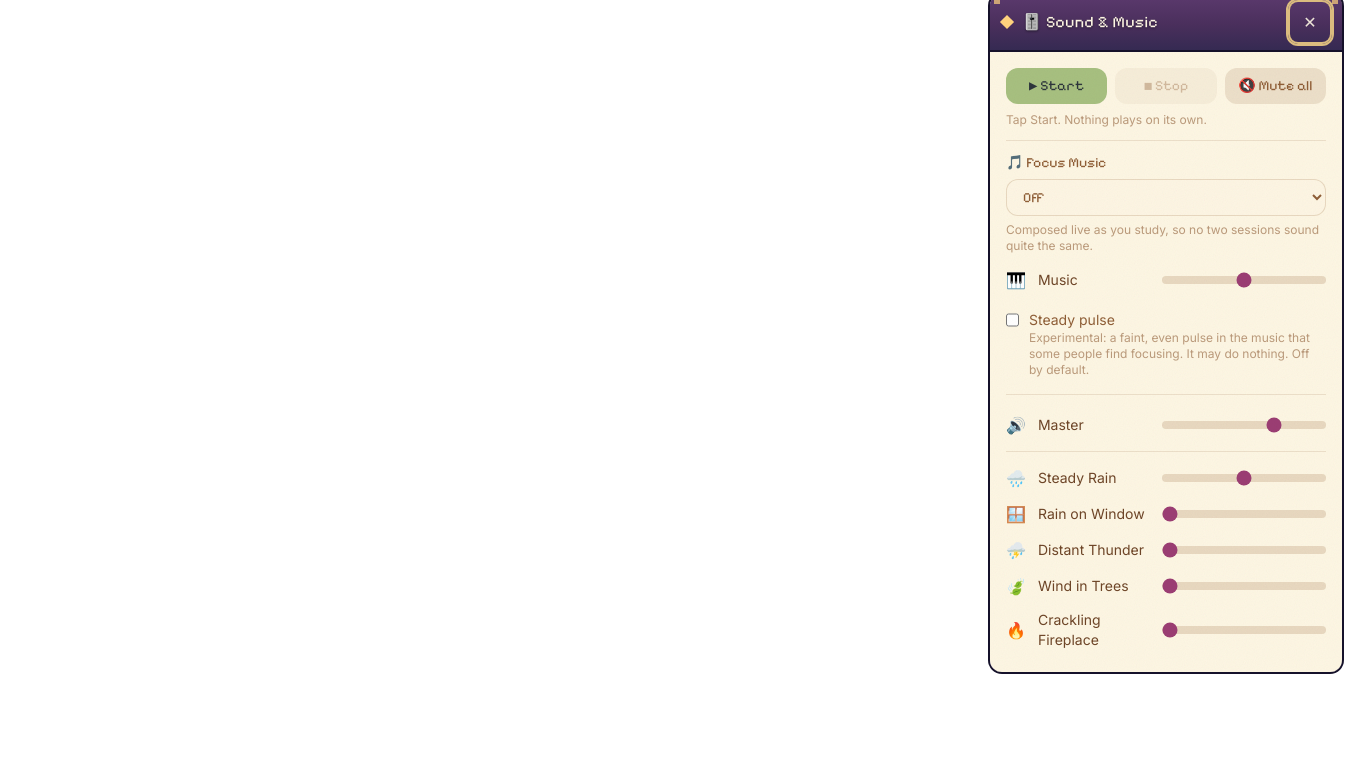
it: AmbientMixerDrawer — Sound & Music › selecting a mood persists it to emily.mixer.musicStyle and shows a now-playing hint
The width and height of the screenshot is (1366, 768).
Later steps or results of the test are not shown.
Select "Late-night Library" in the dropdown labelled "🎵 Focus Music" at coordinates (1166, 198), box 1006,179 -> 1326,216
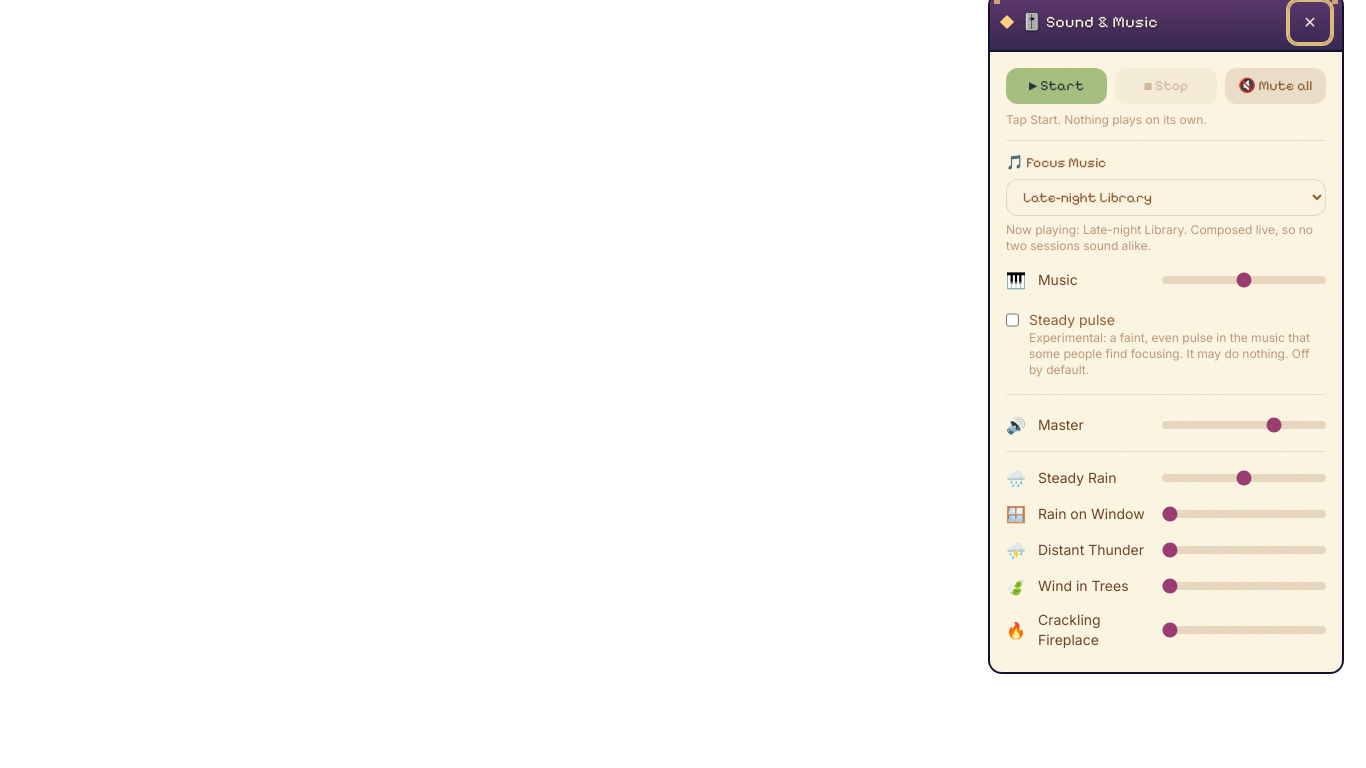
Expected: the text "Now playing: Late-night Library" is shown, 1006,222 -> 1313,253
